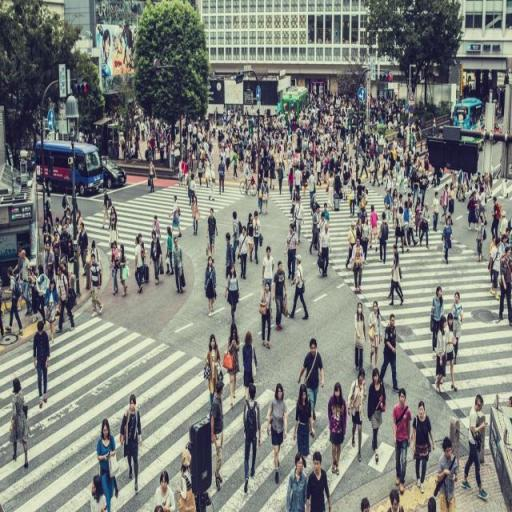person: (464, 393, 489, 502), (299, 337, 327, 432), (268, 384, 289, 486), (123, 395, 144, 493), (414, 402, 436, 495), (393, 390, 412, 496), (245, 386, 263, 495), (329, 383, 349, 478), (98, 418, 118, 512), (294, 383, 315, 470), (370, 370, 388, 467), (13, 380, 32, 471), (380, 312, 401, 394), (349, 369, 367, 464), (212, 380, 227, 492), (440, 437, 461, 512), (34, 320, 51, 411), (308, 450, 332, 512), (290, 253, 311, 321), (208, 333, 224, 421), (287, 451, 309, 512), (58, 268, 77, 334), (6, 268, 23, 337), (230, 323, 243, 408), (245, 331, 260, 403), (45, 280, 61, 347), (368, 301, 383, 372), (499, 248, 512, 329), (446, 312, 459, 392), (452, 292, 465, 366), (275, 260, 288, 332), (431, 287, 445, 353), (226, 266, 242, 323), (437, 318, 449, 394), (356, 303, 368, 377), (61, 261, 75, 323), (90, 258, 104, 319), (173, 237, 187, 296), (288, 224, 301, 283), (36, 267, 49, 325), (151, 233, 164, 288), (491, 236, 502, 301), (206, 258, 218, 317), (354, 240, 367, 293), (15, 249, 26, 311), (262, 279, 271, 350), (392, 254, 404, 306), (29, 263, 39, 325), (23, 251, 32, 318), (348, 219, 360, 269), (135, 237, 145, 296), (170, 194, 183, 239), (240, 227, 251, 280), (111, 242, 122, 295), (265, 248, 276, 301), (321, 225, 332, 277), (208, 209, 218, 266), (443, 215, 454, 265), (119, 243, 129, 298), (379, 211, 389, 265), (233, 211, 244, 260), (80, 224, 90, 276), (295, 198, 306, 245), (101, 189, 112, 235), (65, 239, 76, 285), (396, 205, 406, 255), (477, 215, 487, 265), (491, 196, 502, 240), (61, 190, 74, 227), (441, 183, 452, 225), (469, 191, 480, 233), (449, 182, 459, 228), (421, 204, 431, 249), (370, 204, 379, 254), (255, 212, 263, 268), (312, 206, 321, 255), (364, 216, 373, 265), (166, 226, 175, 275), (226, 233, 235, 282), (62, 228, 73, 268), (409, 205, 419, 248), (307, 169, 318, 207), (421, 170, 431, 210), (479, 186, 489, 226), (140, 235, 148, 284), (385, 190, 395, 229), (76, 211, 84, 259), (248, 215, 256, 263), (45, 193, 55, 231), (457, 167, 467, 204), (149, 160, 159, 196), (208, 167, 218, 203), (244, 160, 254, 195), (295, 164, 304, 202), (46, 243, 55, 281), (110, 221, 119, 258), (433, 192, 441, 233), (405, 201, 411, 255), (219, 157, 227, 196), (192, 197, 200, 236), (92, 244, 102, 275), (312, 197, 321, 231), (328, 173, 336, 211), (319, 213, 330, 240), (416, 199, 423, 241), (153, 216, 163, 245), (343, 166, 351, 202), (52, 233, 64, 257), (56, 244, 63, 285), (375, 152, 383, 187), (264, 177, 271, 216), (350, 179, 357, 218), (191, 177, 199, 211), (400, 163, 408, 196), (44, 217, 52, 250), (110, 208, 119, 237), (187, 171, 194, 208), (336, 174, 344, 205), (397, 195, 405, 226), (362, 151, 370, 181), (289, 169, 297, 199), (393, 191, 399, 231), (232, 150, 240, 179), (198, 159, 206, 188), (356, 180, 364, 209), (270, 159, 277, 192), (292, 191, 299, 224), (258, 177, 264, 215), (66, 218, 75, 243), (382, 154, 389, 186), (363, 187, 371, 215), (323, 153, 330, 184), (150, 137, 158, 164), (386, 173, 395, 197), (501, 211, 509, 238), (159, 138, 166, 168), (279, 141, 286, 171), (279, 162, 285, 197), (469, 175, 479, 196), (415, 171, 421, 205), (189, 146, 196, 175), (251, 142, 257, 175), (287, 147, 293, 180), (323, 205, 332, 227), (359, 217, 365, 250), (370, 154, 376, 186), (120, 133, 127, 160), (349, 159, 356, 186), (54, 220, 63, 241), (241, 139, 247, 170), (171, 141, 177, 172), (317, 157, 323, 188), (397, 145, 405, 168), (330, 153, 337, 179), (406, 153, 412, 183), (183, 159, 189, 189), (205, 160, 211, 190), (502, 236, 511, 256), (296, 126, 303, 151), (416, 151, 423, 176), (226, 145, 232, 174), (391, 153, 397, 182), (179, 160, 185, 188), (303, 167, 308, 200), (218, 133, 224, 160), (167, 137, 172, 168), (356, 197, 363, 219), (66, 209, 74, 228), (209, 150, 216, 171), (221, 148, 227, 172), (425, 153, 431, 177), (347, 133, 352, 161), (432, 119, 439, 138), (223, 113, 228, 134)
